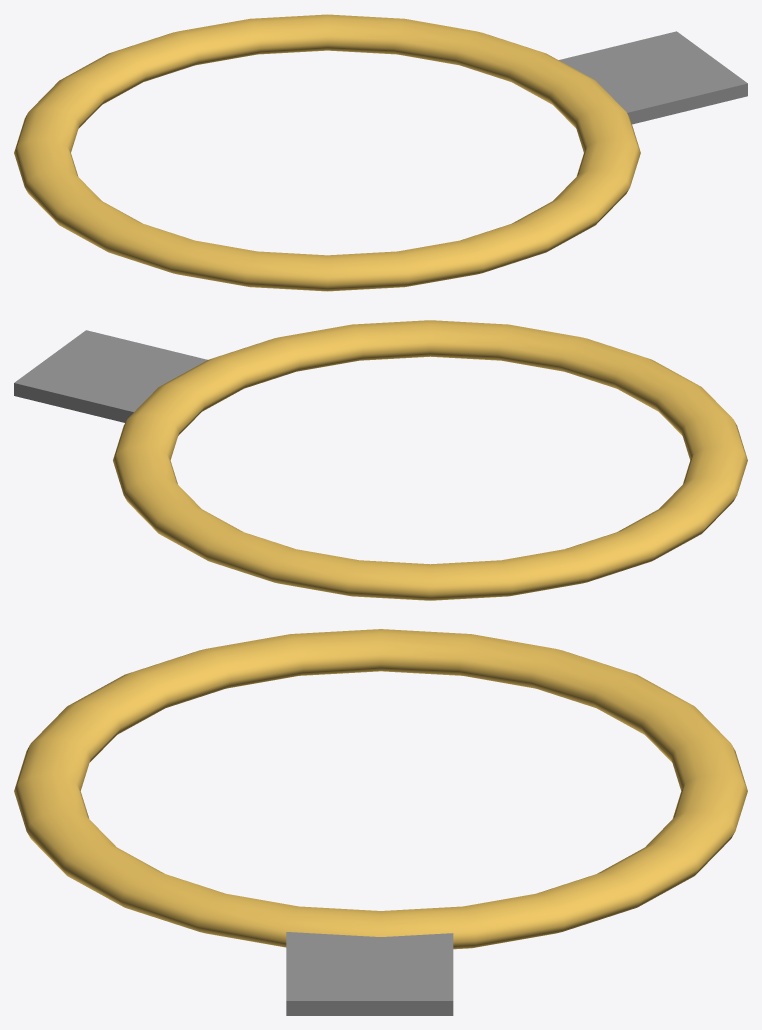
Rendered from RingColorFix.FBX.
The picture shows the model from 3 angles, top to bottom: view 1: azimuth 30°, elevation 25°; view 2: azimuth 150°, elevation 25°; view 3: azimuth 270°, elevation 25°; orthographic projection. The views are drawn at different scales.
Visible parts, largest first — view 1: Torus001, Box001; view 2: Torus001, Box001; view 3: Torus001, Box001.
Boxes of the visible parts, left/top/right/bottom form: Torus001: left=14, top=14, right=640, bottom=291; Box001: left=559, top=31, right=747, bottom=124; Torus001: left=113, top=320, right=747, bottom=600; Box001: left=14, top=330, right=207, bottom=422; Torus001: left=14, top=629, right=747, bottom=949; Box001: left=286, top=932, right=453, bottom=1015.
Bounding box in the file's own units: 104 × 4.25 × 86.61.
